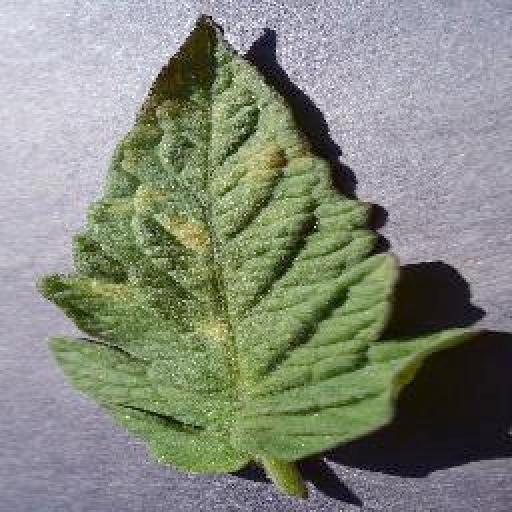disease_tomato: (40, 12, 470, 480)
